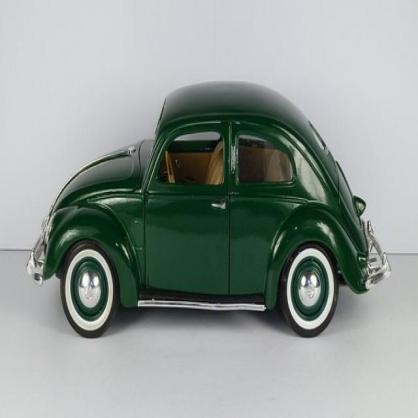car: (30, 83, 393, 339)
